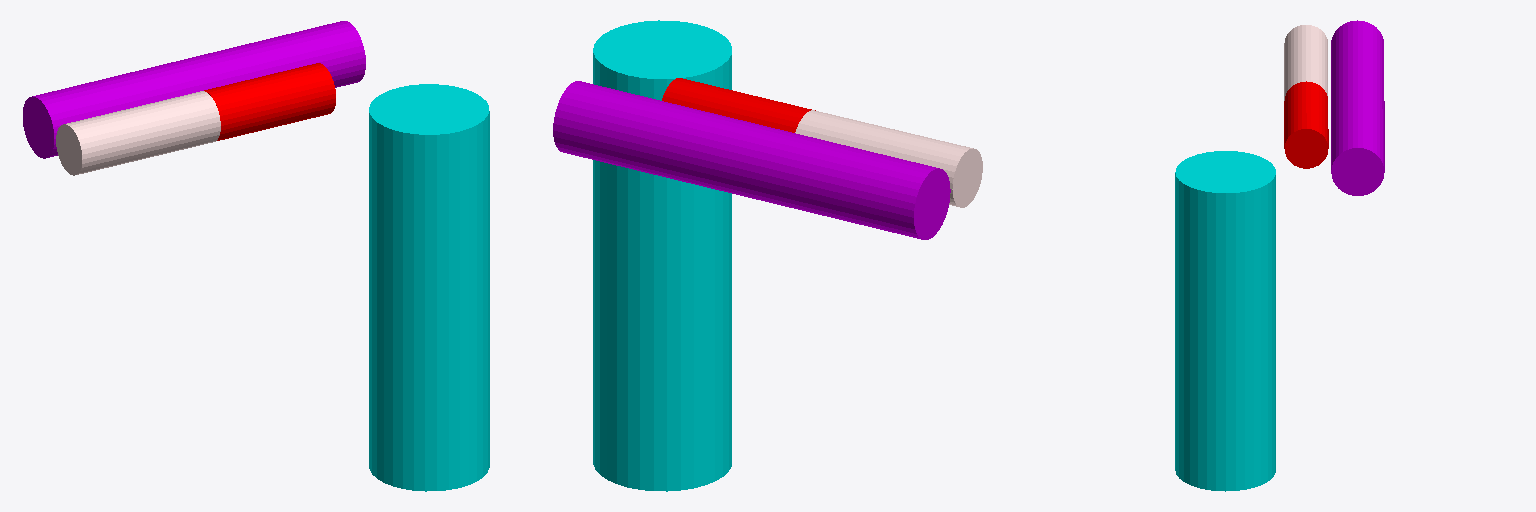
URDF robot description (mara):
<robot name="mara">
	<link name="base_link">
		<visual>
			<origin xyz="0 0 0" rpy="0 0 0"/>
			<geometry>
				<box size=".07125 .07125 0.01"/>
			</geometry>
			<material name="Cyan1">
					<color rgba="0 0.9 0.9 1.0"/>
			</material>
		</visual>	
	</link>

	<link name="link1" >
		<visual>
			<origin xyz="0 0 0.224" rpy="0 0 0"/>
			<geometry>
				<cylinder radius=".0687" length=".448"/>
			</geometry>
			<material name="Cyan1">
					<color rgba="0 0.9 0.9 1.0"/>
			</material>
		</visual>	
	</link>

	<link name="link2" >
		<visual>
			<origin xyz="-0.38 0 0.205" rpy="0 0 0"/>
			<geometry>
				<cylinder radius=".03635" length=".41"/>
			</geometry>
			<material name="Pink">
					<color rgba="0.8 0.0 0.9 1.0"/>
			</material>
		</visual>	
	</link>

	<link name="link3" >
		<visual>
			<origin xyz="-.23 0 0.0912" rpy="3.14 0 0"/>
			<geometry>
				<cylinder radius=".03" length=".1824"/>
			</geometry>
			<material name="White2">
					<color rgba="1 0.9 0.9 1.0"/>
			</material>
		</visual>	
	</link>
	<link name="link4" >
		<visual>
			<origin xyz="0 0 0.106" rpy="0 0 0"/>
			<geometry>
				<cylinder radius=".03" length=".152"/>
			</geometry>
			<material name="White3">
					<color rgba="1 0.0 0.0 1"/>
			</material>
		</visual>	
	</link>
	<link name="link5" >
		<visual>
			<origin xyz="0 0 0.0381" rpy="0 0 0"/>
			<geometry>
				<cylinder radius=".02" length=".0762"/>
			</geometry>
			<material name="Blue1">
					<color rgba="0.0 0.2 0.9 0"/>
			</material>
		</visual>	
	</link>
	<link name="link6" >
		<visual>
			<origin xyz="0 0 .025" rpy="0 1.57 0"/>
			<geometry>
				<cylinder radius=".016" length=".05"/>
			</geometry>
			<material name="Blue2">
					<color rgba="0.0 1 0.9 0"/>
			</material>
		</visual>	
	</link>

	<joint name="joint1" type="continuous">
		<parent link="base_link"/>
		<child link="link1"/>
		<origin xyz="0 0 0" rpy="0 0 -1.57"/>
                <axis xyz="0 0 1" />
		<limit effort="30" velocity="0.6" lower="-3.14" upper="3.14" />
	</joint>

	<joint name="joint2" type="continuous">
		<parent link="link1"/>
		<child link="link2"/>
		<origin xyz="0.2 0.0 0.448" rpy="1.57 0 0"/>
                <axis xyz="1 0 0" />
		<limit effort="30" velocity="0.6" lower="-3.14" upper="3.14" />
	</joint>

	<joint name="joint3" type="continuous">
		<parent link="link2"/>
		<child link="link3"/>
		<origin xyz="-0.08 0 0.41" rpy="3.14 0 0"/>
                <axis xyz="1 0 0" />
		<limit effort="30" velocity="0.6" lower="-3.14" upper="3.14" />
	</joint>

	<joint name="joint4" type="continuous">
		<parent link="link3"/>
		<child link="link4"/>
		<origin xyz="-0.23 0 0.152" rpy="0 0 1.57"/>
                <axis xyz="0 0 1" />
		<limit effort="30" velocity="0.6" lower="-3.14" upper="3.14" />
	</joint>

	<joint name="joint5" type="continuous">
		<parent link="link4"/>
		<child link="link5"/>
		<origin xyz="0 0.0 0.152" rpy="-3.14 0 1.57"/>
                <axis xyz="0 1 0" />
        	<limit effort="30" velocity="0.6" lower="0.0" upper="2.6" />
	</joint>

	<joint name="joint6" type="continuous">
		<parent link="link5"/>
		<child link="link6"/>
		<origin xyz="0 0.0 0.05" rpy="0 0 3.14"/>
                <axis xyz="0 0 1" />
		<limit effort="30" velocity="0.6" lower="-3.14" upper="3.14" />
	</joint>
</robot>

--- Facts derived from the render (not from the file) ---
3 views of the same robot in one strip: view 1: azimuth 30°, elevation 25°; view 2: azimuth 150°, elevation 25°; view 3: azimuth 270°, elevation 25° (orthographic).
Model mara with 7 links and 6 joints (6 continuous), rooted at base_link, posed every joint at zero.
Visible links, largest first — view 1: link1, link2, link3, link4; view 2: link1, link2, link3, link4; view 3: link1, link2, link4, link3.
Boxes of the visible links, x1=… form: link1: x1=369, y1=84, x2=489, y2=491; link2: x1=23, y1=21, x2=365, y2=158; link3: x1=56, y1=91, x2=220, y2=175; link4: x1=204, y1=63, x2=335, y2=140; link1: x1=593, y1=20, x2=731, y2=491; link2: x1=553, y1=81, x2=950, y2=239; link3: x1=795, y1=110, x2=982, y2=207; link4: x1=662, y1=78, x2=815, y2=132; link1: x1=1175, y1=151, x2=1275, y2=491; link2: x1=1331, y1=20, x2=1384, y2=195; link4: x1=1284, y1=81, x2=1328, y2=168; link3: x1=1284, y1=25, x2=1327, y2=100.
Size in the robot's own frame: 0.4789 by 0.285 by 0.4897 metres.
Geometry: primitives only (box / cylinder / sphere), no mesh files.
